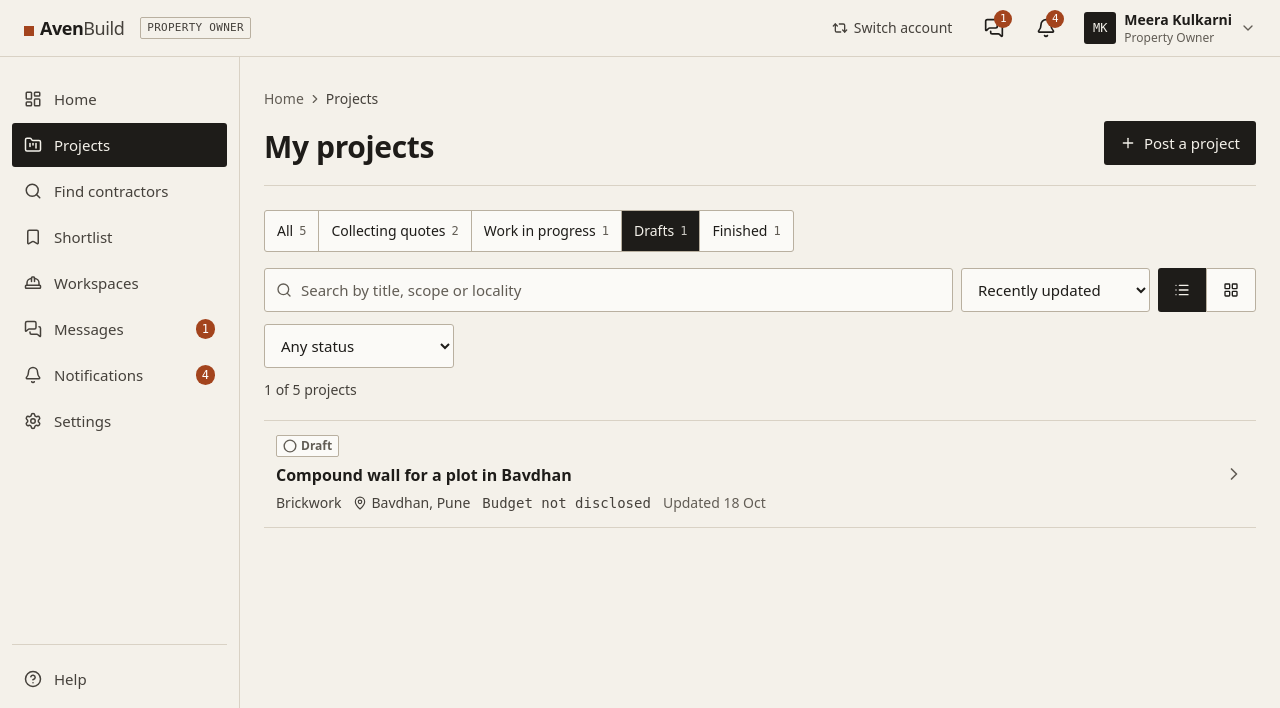
Test case: owner journey (UI) › project list filters change the displayed data and show a clear-filters state
Expected: the text "1 of 5 projects" is shown, [264,380,357,400]
Expected: the text "Compound wall for a plot in Bavdhan" is shown, [276,464,572,486]
In the search field named "Search your projects": (608, 290) [264,268,953,312], type "zzz"
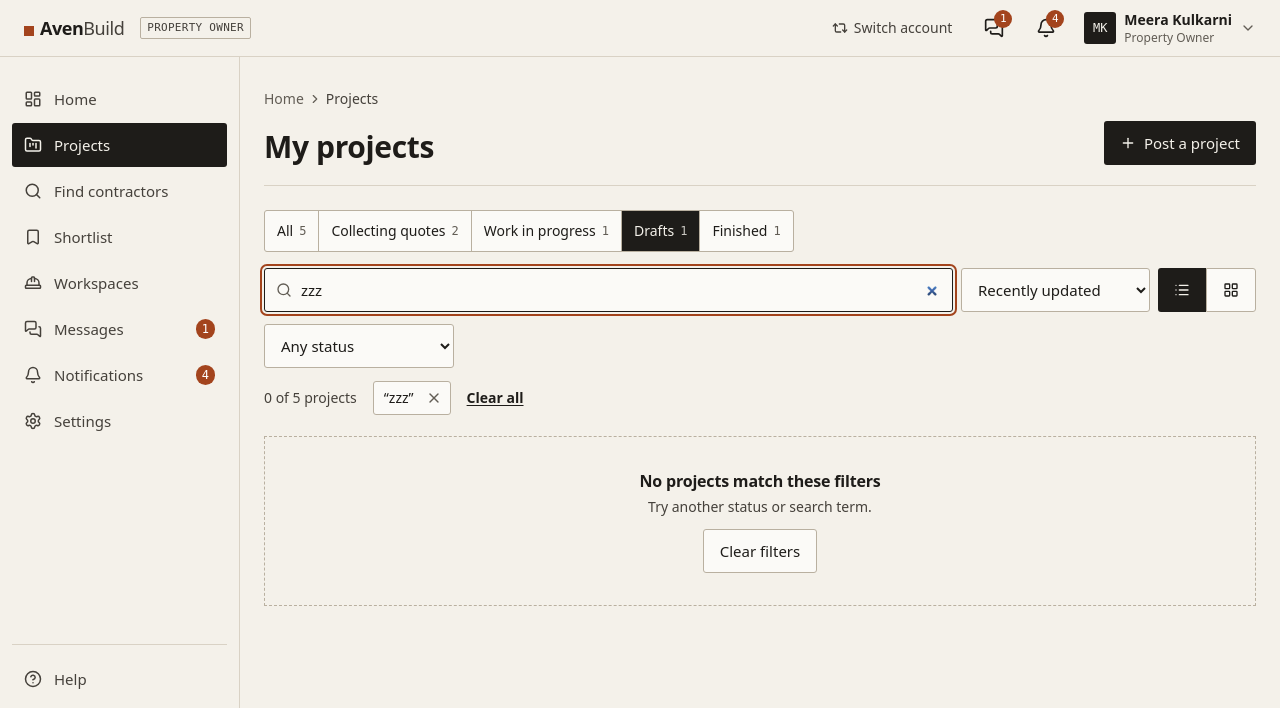
Result: the heading "No projects match these filters" is shown at [640,469,880,493]
Click the button "Clear filters": (760, 551) [703,529,817,573]
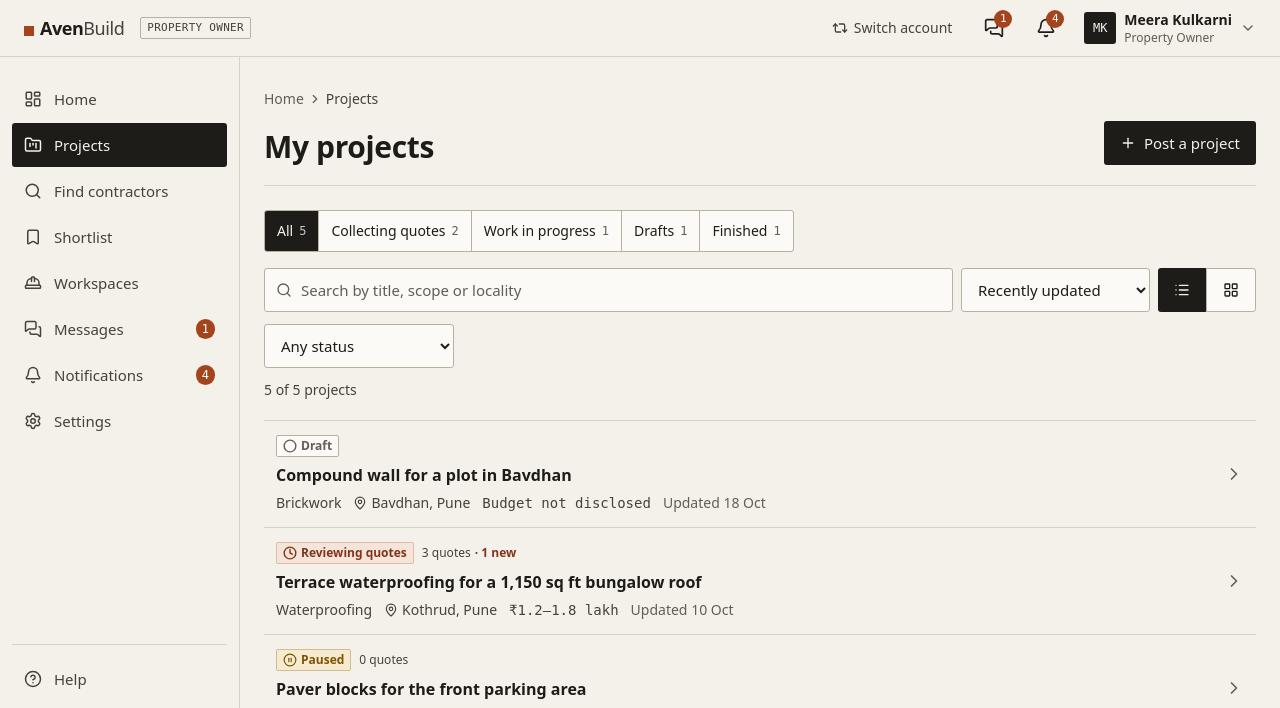
Result: the text "5 of 5 projects" is shown at [264,380,357,400]
